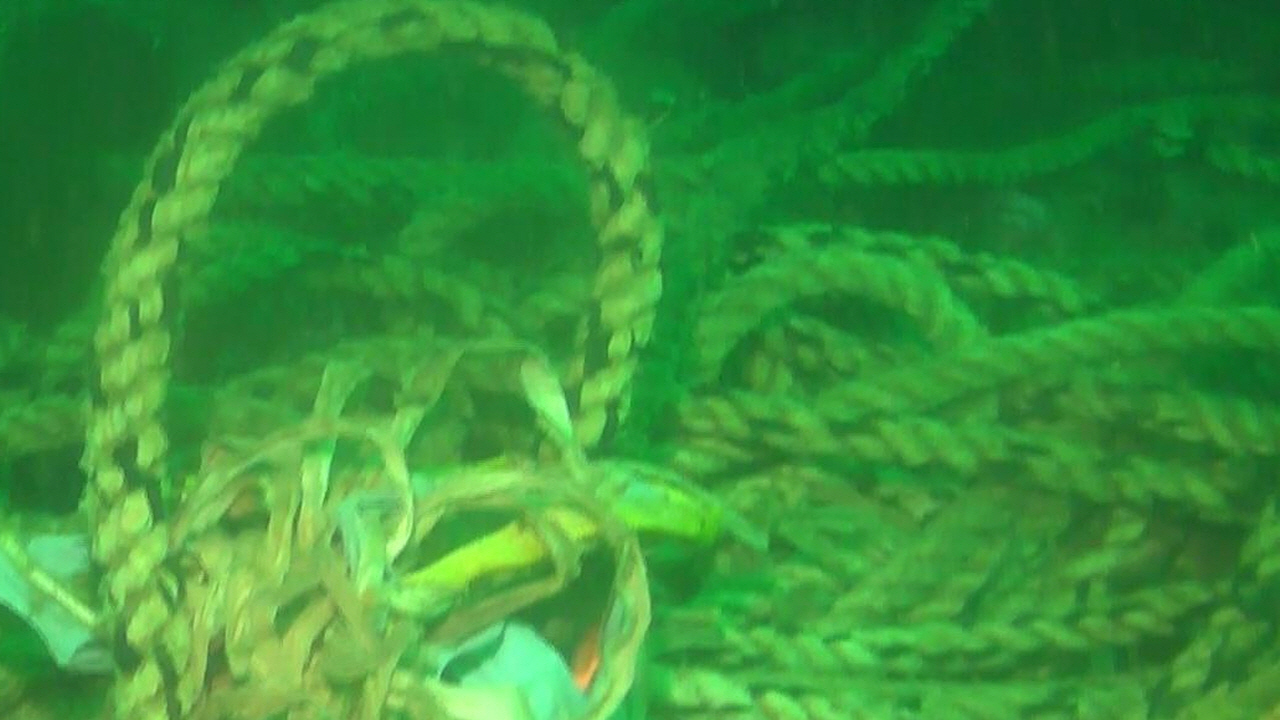bundle of ropes: (0, 2, 1280, 719)
rope: (78, 3, 664, 719)
